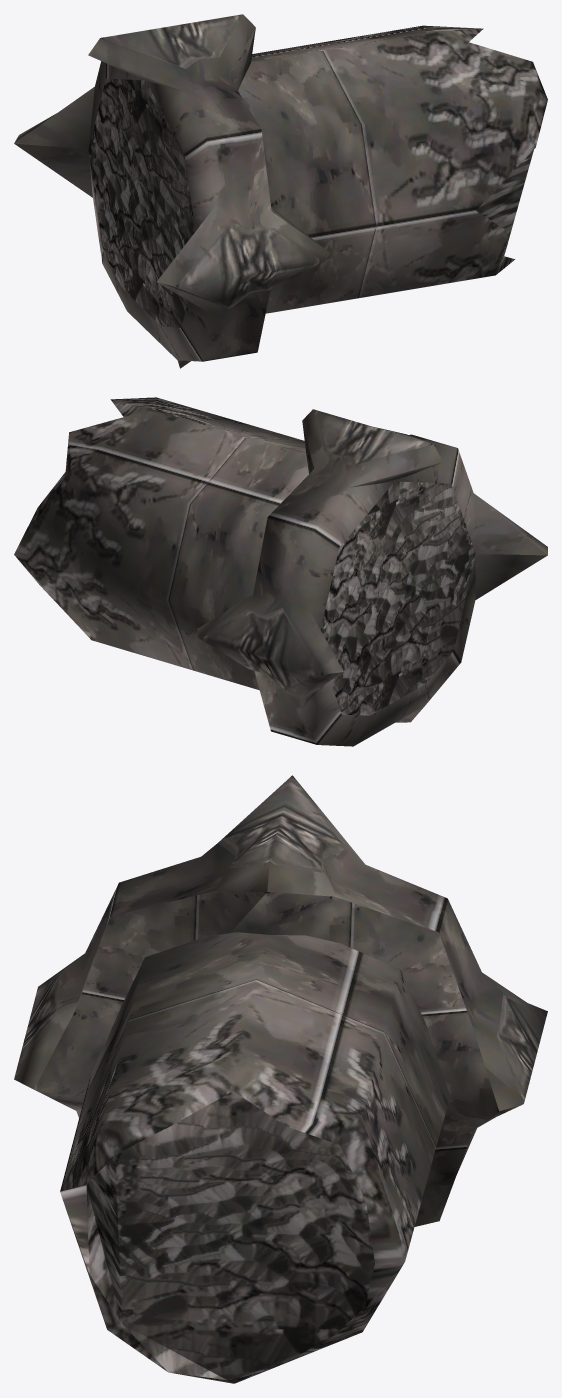
Rendered from INST_SM_COLUMN_BROKEN_PIECEC.fbx.
3 renders of one model, top to bottom at view 1: azimuth 30°, elevation 25°; view 2: azimuth 150°, elevation 25°; view 3: azimuth 270°, elevation 25°, orthographic. The views are drawn at different scales.
Parts seen in each view (by area): view 1: INST_SM_COLUMN_BROKEN_PIECEC; view 2: INST_SM_COLUMN_BROKEN_PIECEC; view 3: INST_SM_COLUMN_BROKEN_PIECEC.
Boxes of the visible parts, left/top/right/bottom form: INST_SM_COLUMN_BROKEN_PIECEC: left=14, top=14, right=547, bottom=368; INST_SM_COLUMN_BROKEN_PIECEC: left=14, top=397, right=547, bottom=746; INST_SM_COLUMN_BROKEN_PIECEC: left=14, top=775, right=547, bottom=1383.
Size of the model in its own units: 43062 by 31086 by 35501.
Materials: 4 (4 with a texture image).
